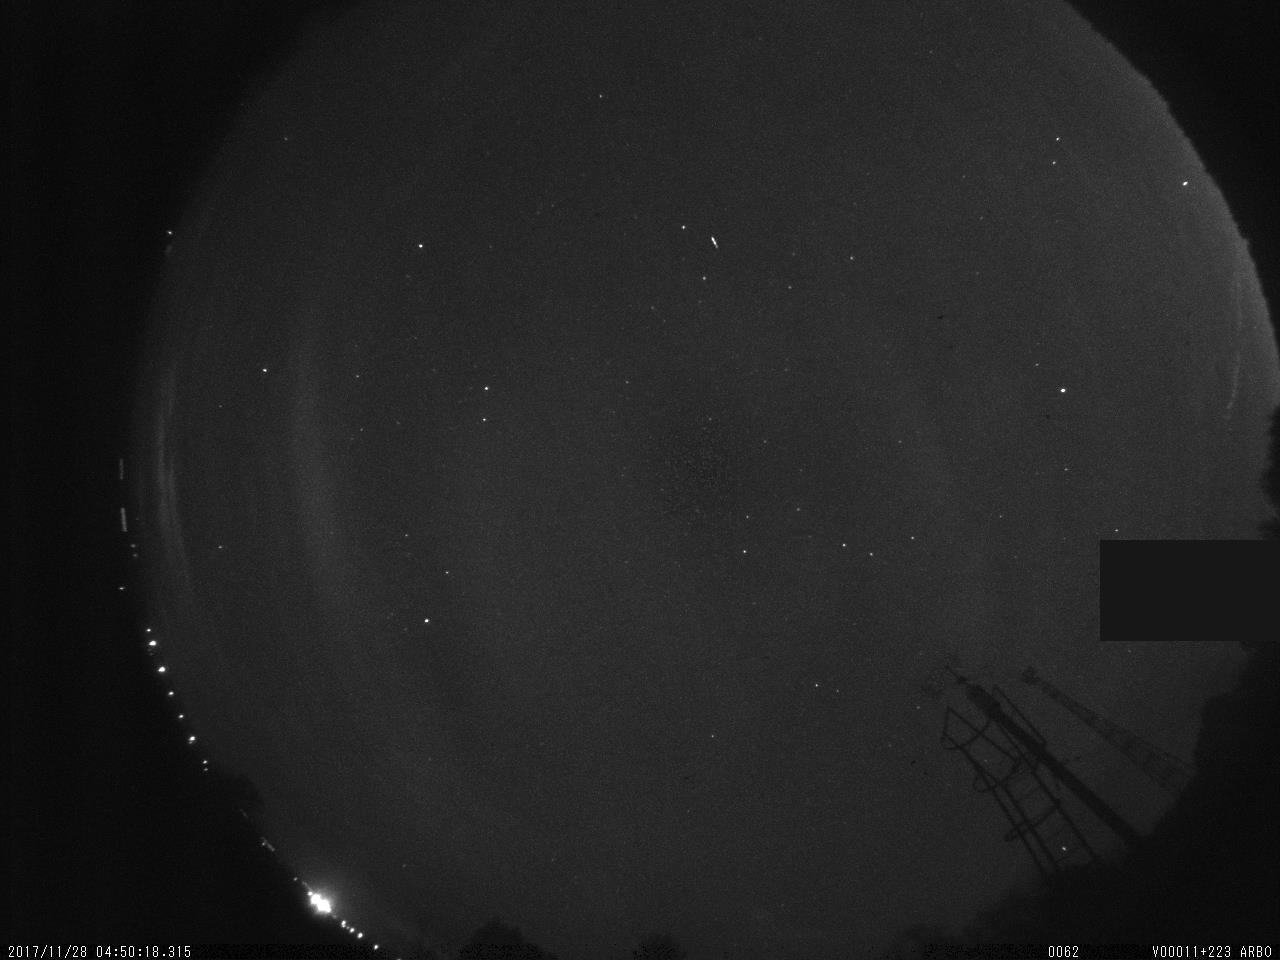meteor: (705, 233, 724, 251)
